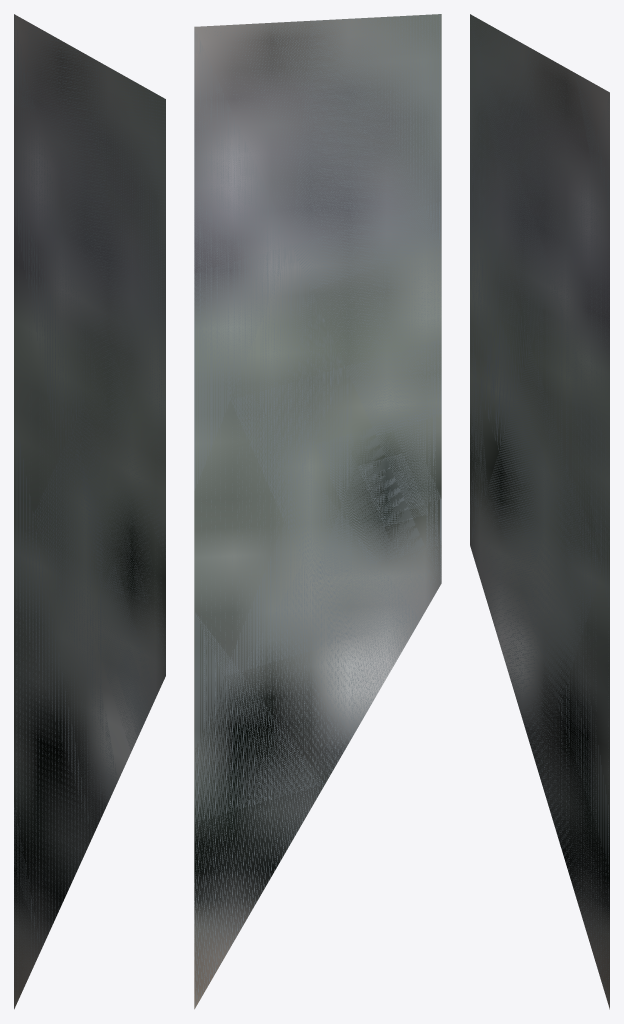
File: 西庸城堡236.dae
3 views of the same model, side by side, from view 1: azimuth 90°, elevation 25°; view 2: azimuth 150°, elevation 25°; view 3: azimuth 270°, elevation 25° (orthographic). The views are drawn at different scales.
Visible parts, largest first — view 1: SketchUp; view 2: SketchUp; view 3: SketchUp.
Part boxes in pixels (x1,y1,x2,y2): SketchUp: (14, 14, 165, 1009); SketchUp: (194, 14, 441, 1009); SketchUp: (470, 14, 609, 1009).
Bounding box in the file's own units: 8.86 × 6.67 × 48.27.
